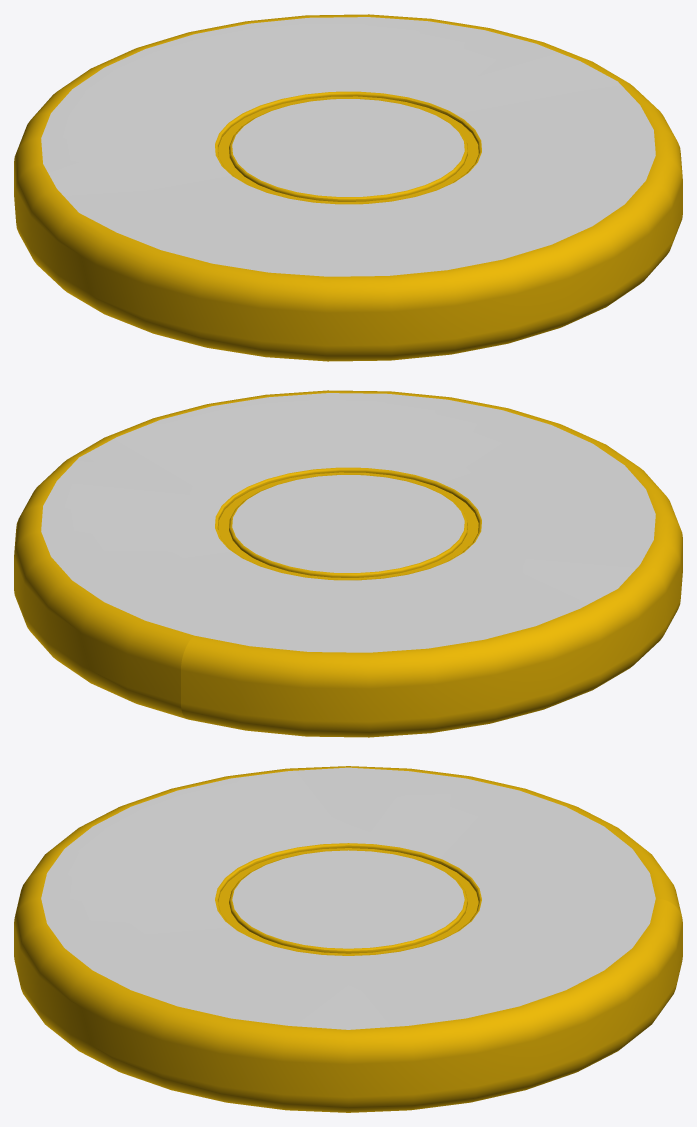
File: round track.fbx
The picture shows the model from 3 angles, top to bottom: view 1: azimuth 30°, elevation 25°; view 2: azimuth 150°, elevation 25°; view 3: azimuth 270°, elevation 25°; orthographic projection.
Visible parts, largest first — view 1: roads.006; view 2: roads.006; view 3: roads.006.
Part boxes in pixels (bbox=[...]): roads.006: bbox=[14, 14, 682, 361]; roads.006: bbox=[14, 390, 682, 737]; roads.006: bbox=[14, 766, 682, 1112].
Bounding box in the file's own units: 746 × 101 × 746.
